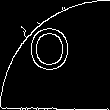O_S: (33, 29, 77, 81)
